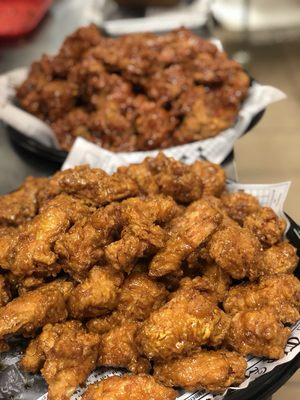sushi: (0, 148, 300, 399)
